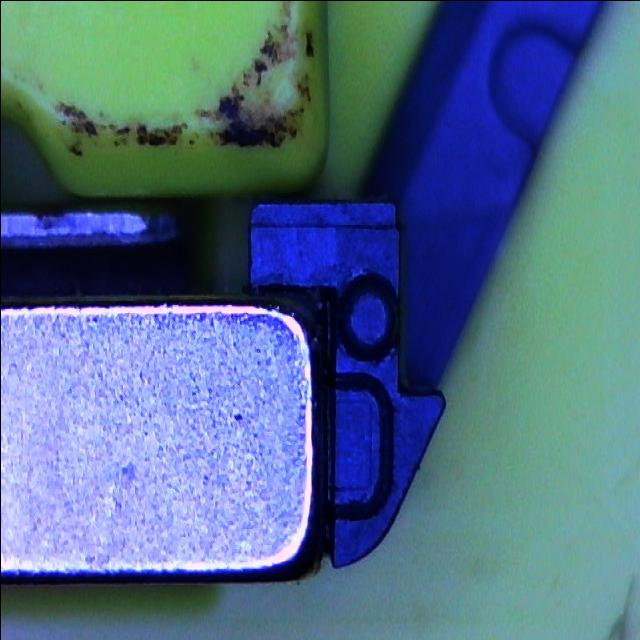lacking: (327, 370, 395, 520)
